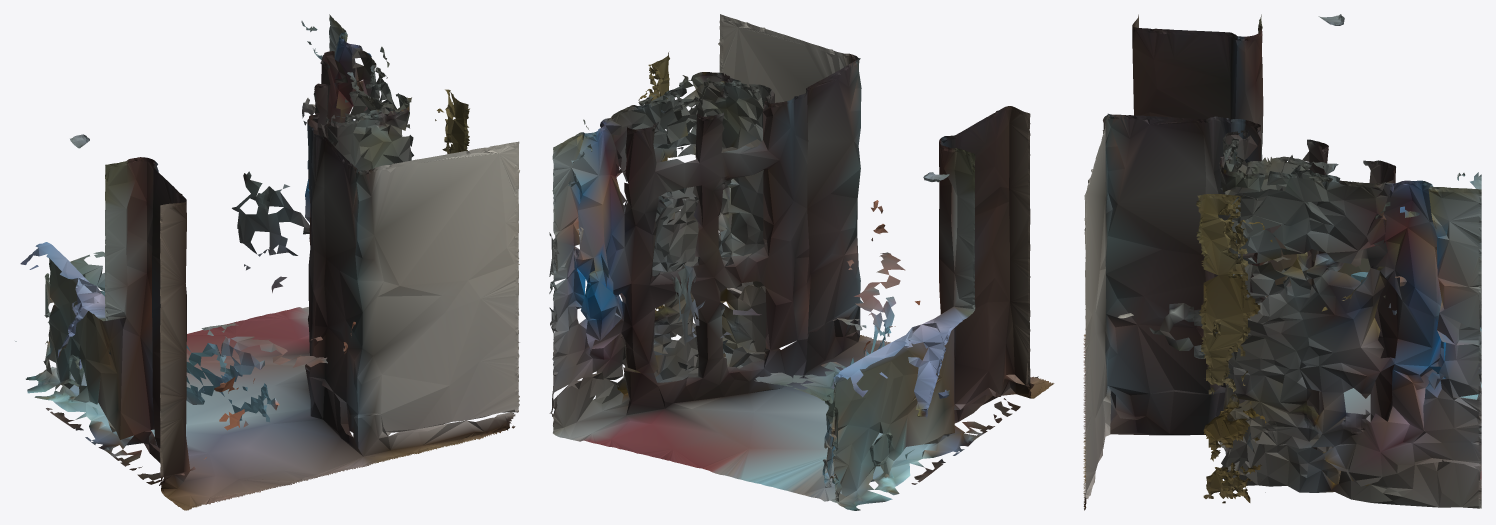
Rendered from coarse.glb.
The picture shows the model from 3 angles, left to right: view 1: azimuth 30°, elevation 25°; view 2: azimuth 150°, elevation 25°; view 3: azimuth 270°, elevation 25°; orthographic projection. The views are drawn at different scales.
Size of the model in its own units: 1.56 by 1.3 by 1.44.
